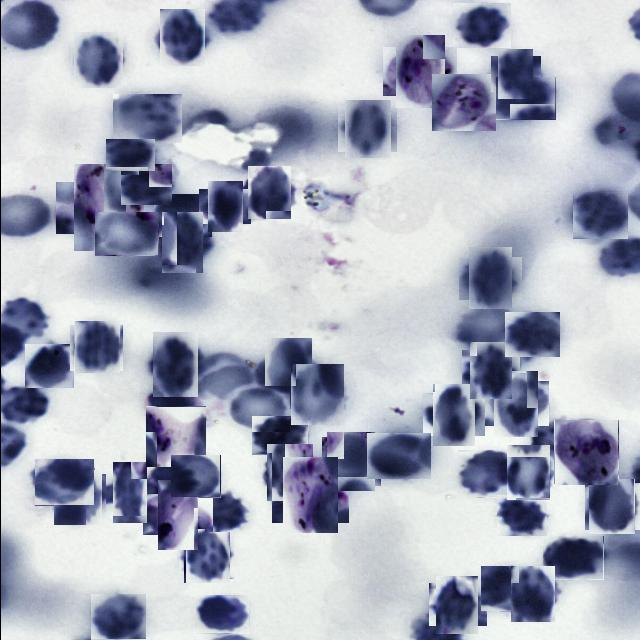red blood cell: (257, 344, 317, 404), (112, 92, 181, 142), (288, 366, 346, 424), (487, 376, 543, 432), (147, 336, 202, 392), (323, 434, 378, 488), (366, 433, 430, 479), (226, 386, 289, 432), (34, 459, 94, 506), (94, 212, 158, 256), (426, 388, 479, 441), (463, 252, 516, 305), (480, 566, 540, 612), (72, 34, 125, 86), (340, 103, 393, 155), (51, 472, 103, 524), (263, 447, 315, 499), (542, 536, 603, 580), (156, 12, 207, 64), (156, 217, 208, 268), (457, 450, 512, 498), (452, 3, 510, 48), (586, 481, 637, 532), (180, 530, 230, 582), (506, 568, 556, 620), (572, 192, 627, 239), (495, 77, 555, 120), (90, 594, 146, 640), (432, 580, 482, 630), (465, 346, 515, 396), (153, 194, 211, 237), (504, 312, 559, 357), (71, 322, 120, 372), (502, 448, 552, 497), (105, 469, 153, 517), (245, 168, 292, 216), (251, 416, 308, 455), (120, 164, 172, 206), (24, 344, 73, 388), (170, 455, 220, 498), (195, 595, 249, 634), (496, 495, 546, 536), (493, 52, 536, 96), (202, 184, 245, 228), (204, 494, 250, 532), (105, 139, 155, 172)
trophozoite: (64, 173, 134, 243), (276, 462, 342, 528), (554, 420, 618, 484), (388, 41, 450, 102), (144, 406, 206, 467), (431, 74, 495, 131), (150, 487, 204, 542)
